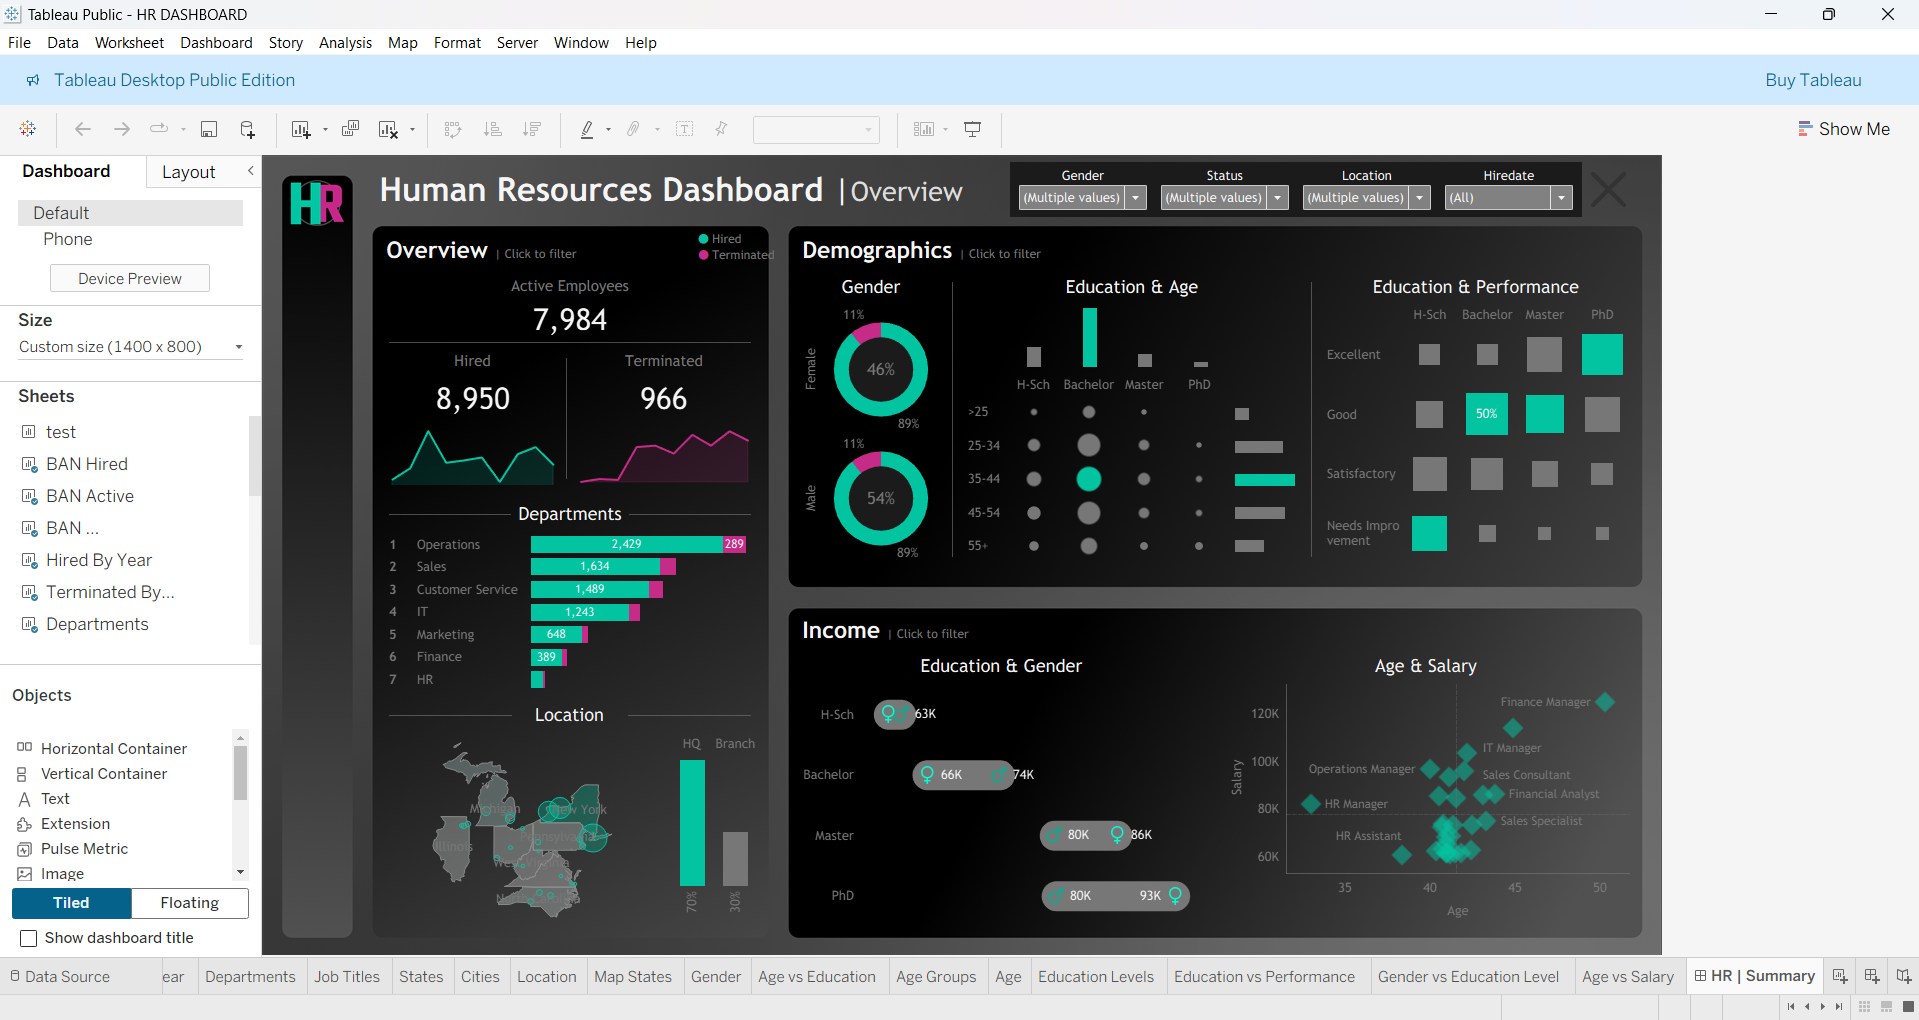

What the dashboard file says about the page in this screenshot:
{"tool":"tableau","page":{"name":"HR | Summary","canvas":[1400,800],"ordinal":0},"visuals":[{"type":"image","param":"Image/background dashbaord summary.png","box":[0,0,1400,800]},{"type":"blank","box":[90,0,1309,240]},{"type":"text","box":[110,0,691,70]},{"type":"blank","box":[801,0,579,70]},{"type":"dashboard-object","box":[1320,7,53,55]},{"type":"filter","title":"Gender vs Education Level","param":"[federated.1uy6vyf0tya8w3119f4041qdymfc].[none:Gender:nk]","box":[750,9,142,51]},{"type":"filter","title":"Gender vs Education Level","param":"[federated.1uy6vyf0tya8w3119f4041qdymfc].[none:Calculation_2981664453132697602:n","box":[892,9,142,51]},{"type":"filter","title":"Gender vs Education Level","param":"[federated.1uy6vyf0tya8w3119f4041qdymfc].[none:Calculation_3363625995846344715:n","box":[1034,9,142,51]},{"type":"filter","title":"Gender vs Education Level","param":"[federated.1uy6vyf0tya8w3119f4041qdymfc].[yr:Hiredate:ok]","box":[1176,9,142,51]},{"type":"image","param":"Image/Logo.png","box":[20,20,70,55]},{"type":"text","box":[117,77,382,35]},{"type":"text","box":[433,77,85,32]},{"type":"text","box":[533,77,840,35]},{"type":"text","box":[117,112,382,32]},{"type":"text","box":[533,117,152,29]},{"type":"blank","box":[690,117,1,295]},{"type":"text","box":[696,117,348,29]},{"type":"blank","box":[1049,117,1,295]},{"type":"text","box":[1055,117,318,29]},{"type":"worksheet","title":"BAN Active","mark":"Text","box":[117,144,382,43]},{"type":"worksheet","title":"Gender","mark":"Pie","rows":["Gender"],"cols":["Calculation_3363625995853570061","Calculation_3363625995853570061"],"box":[533,146,152,266]},{"type":"worksheet","title":"Education Levels","mark":"Bar","rows":["Calculation_3363625995831468034"],"cols":["Education Level"],"box":[696,146,348,70]},{"type":"worksheet","title":"Education vs Performance","mark":"Square","rows":["Performance Rating"],"cols":["Education Level"],"box":[1055,146,318,266]},{"type":"blank","box":[117,187,382,1]},{"type":"text","box":[117,193,187,26]},{"type":"blank","box":[304,193,1,141]},{"type":"text","box":[305,193,193.9,26]},{"type":"worksheet","title":"Age vs Education","mark":"Circle","rows":["Calculation_3363625995862552598"],"cols":["Education Level"],"box":[696,216,273,196]},{"type":"worksheet","title":"Age Groups","mark":"Bar","rows":["Calculation_3363625995862552598"],"cols":["Calculation_3363625995831468034"],"box":[969,216,71,196]},{"type":"worksheet","title":"BAN Hired","mark":"Text","box":[117,219,187,49]},{"type":"worksheet","title":"BAN Terminated","mark":"Text","box":[305,219,193.9,49]},{"type":"text","box":[90,240,1309,320]},{"type":"worksheet","title":"Hired By Year","mark":"Line","rows":["Calculation_3363625995831468034","Calculation_3363625995831468034"],"cols":["Hiredate"],"box":[117,268,187,66]},{"type":"worksheet","title":"Terminated By Year","mark":"Line","rows":["Calculation_3363625995832086533","Calculation_3363625995832086533"],"cols":["Termdate"],"box":[305,268,193.9,66]},{"type":"blank","box":[127,344,122,30]},{"type":"text","box":[249,344,118,30]},{"type":"blank","box":[367,344,122,30]},{"type":"worksheet","title":"Departments","mark":"Bar","rows":["Calculation_3363625995844042762","Department"],"cols":["Calculation_3363625995831468034"],"box":[117,374,382,166]},{"type":"text","box":[533,459,840,32]},{"type":"text","box":[533,496,412.5,29]},{"type":"blank","box":[950.5,496,1,279]},{"type":"text","box":[956.5,496,416.5,29]},{"type":"worksheet","title":"Gender vs Education Level","mark":"Square","rows":["Education Level"],"cols":["Salary","Salary"],"box":[533,525,412.5,250]},{"type":"worksheet","title":"Age vs Salary","mark":"Shape","rows":["Salary"],"cols":["Calculation_3363625995860541454"],"box":[956.5,525,416.5,250]},{"type":"blank","box":[127,545,123.3,30]},{"type":"text","box":[250.3,545,115.3,30]},{"type":"blank","box":[365.6,545,123.3,30]},{"type":"blank","box":[90,560,1309,240]},{"type":"worksheet","title":"Map States","mark":"Automatic","box":[117,575,287,200]},{"type":"worksheet","title":"Location","mark":"Bar","rows":["Calculation_3363625995831468034"],"cols":["Calculation_3363625995846344715","Calculation1"],"box":[404,575,95,200]}]}

Visuals, with their boxes on the page's 1400x800 design canvas (x1, y1, x2, y2). These are canvas units, not pixel positions in the 1919x1020 screenshot, which may show the page scaled, cropped or inside an application window:
image: 0,0,1400,800
blank: 90,0,1399,240
text: 110,0,801,70
blank: 801,0,1380,70
dashboard-object: 1320,7,1373,62
"Gender vs Education Level" filter: 750,9,892,60
"Gender vs Education Level" filter: 892,9,1034,60
"Gender vs Education Level" filter: 1034,9,1176,60
"Gender vs Education Level" filter: 1176,9,1318,60
image: 20,20,90,75
text: 117,77,499,112
text: 433,77,518,109
text: 533,77,1373,112
text: 117,112,499,144
text: 533,117,685,146
blank: 690,117,691,412
text: 696,117,1044,146
blank: 1049,117,1050,412
text: 1055,117,1373,146
"BAN Active" worksheet (Text marks): 117,144,499,187
"Gender" worksheet (Pie marks): 533,146,685,412
"Education Levels" worksheet (Bar marks): 696,146,1044,216
"Education vs Performance" worksheet (Square marks): 1055,146,1373,412
blank: 117,187,499,188
text: 117,193,304,219
blank: 304,193,305,334
text: 305,193,499,219
"Age vs Education" worksheet (Circle marks): 696,216,969,412
"Age Groups" worksheet (Bar marks): 969,216,1040,412
"BAN Hired" worksheet (Text marks): 117,219,304,268
"BAN Terminated" worksheet (Text marks): 305,219,499,268
text: 90,240,1399,560
"Hired By Year" worksheet (Line marks): 117,268,304,334
"Terminated By Year" worksheet (Line marks): 305,268,499,334
blank: 127,344,249,374
text: 249,344,367,374
blank: 367,344,489,374
"Departments" worksheet (Bar marks): 117,374,499,540
text: 533,459,1373,491
text: 533,496,946,525
blank: 950,496,952,775
text: 956,496,1373,525
"Gender vs Education Level" worksheet (Square marks): 533,525,946,775
"Age vs Salary" worksheet (Shape marks): 956,525,1373,775
blank: 127,545,250,575
text: 250,545,366,575
blank: 366,545,489,575
blank: 90,560,1399,800
"Map States" worksheet: 117,575,404,775
"Location" worksheet (Bar marks): 404,575,499,775
